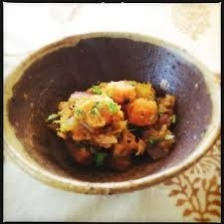sabzi: (46, 79, 178, 167)
